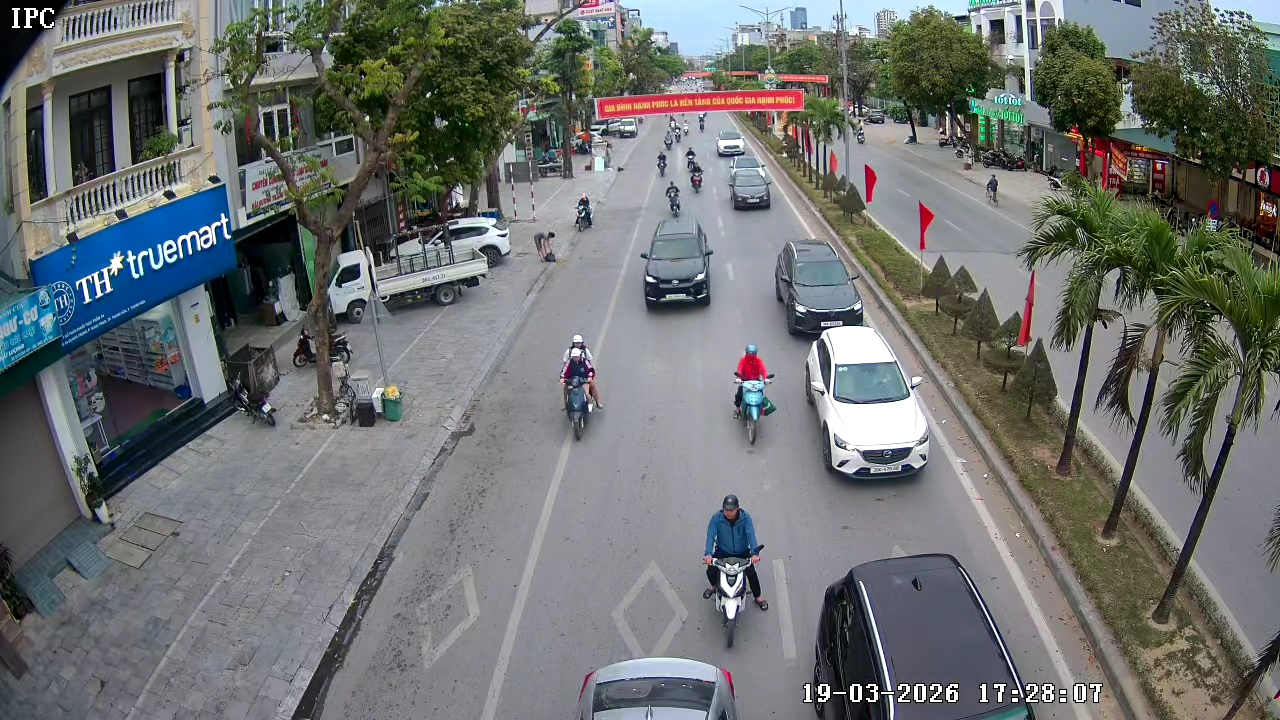car: (801, 551, 1041, 719), (804, 326, 932, 480), (773, 237, 864, 337), (638, 218, 716, 311), (727, 158, 773, 211), (715, 129, 744, 158)
motorbike: (699, 491, 771, 649), (558, 331, 606, 442), (729, 343, 778, 447), (573, 192, 595, 233), (666, 178, 685, 218), (686, 151, 703, 192), (656, 144, 670, 176)
